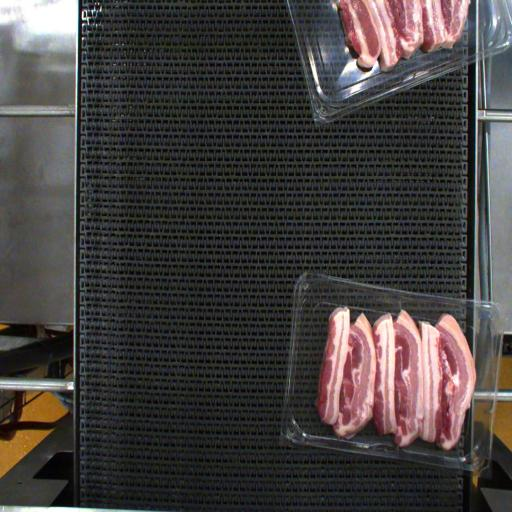packaging-error: (329, 423, 361, 454), (394, 287, 417, 324)
